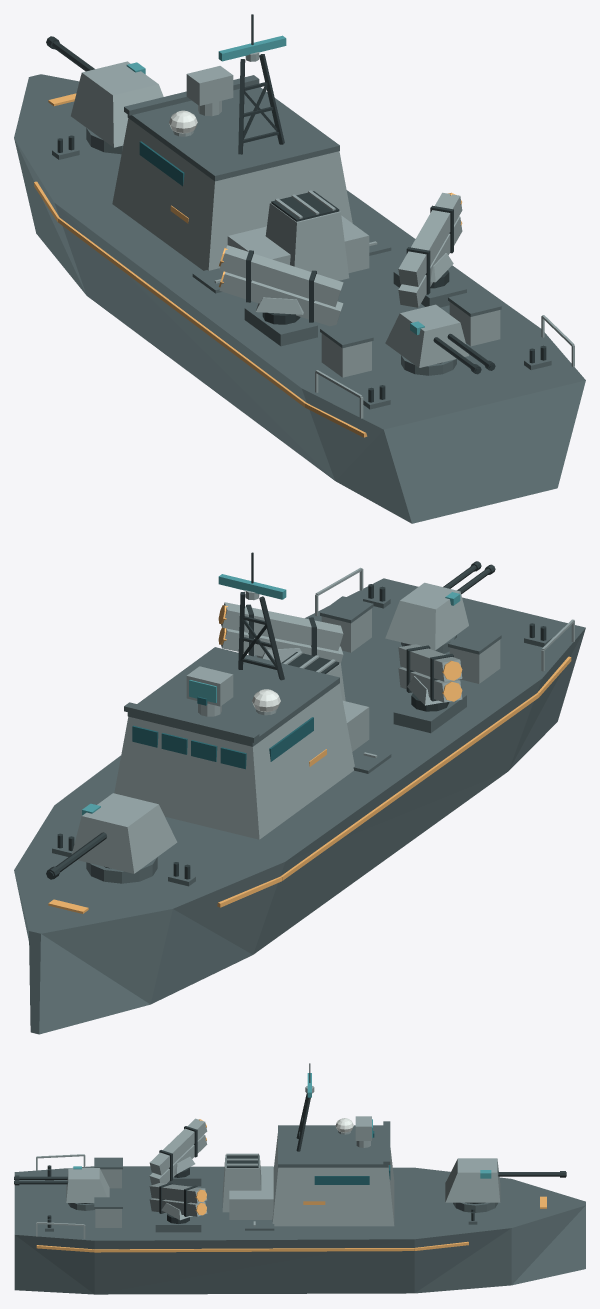
File: ESC_STK_T2.fbx
3 views of the same model, one above another, from view 1: azimuth 30°, elevation 25°; view 2: azimuth 150°, elevation 25°; view 3: azimuth 270°, elevation 25° (orthographic). The views are drawn at different scales.
Visible parts, largest first — view 1: ContinuousHull.014, Deckhouse.014, Roof.014, PrimaryGunCupola.014, FunnelEnclosure.014, AftGunCupola.001, MissileBankPortTube2, MissileBankStarboardTube2, AftEngineHouse, MissileBankPortTube1, RoleHullStripe-1_1, FireControlHousing (+12 smaller); view 2: ContinuousHull.014, Deckhouse.014, Roof.014, PrimaryGunCupola.014, AftGunCupola.001, MissileBankStarboardTube2, RoleHullStripe-1_1, BridgeBrow, MissileBankPortFoundation, AftAmmoLocker-1, MissileBankStarboardTube1, MissileBankPortTube2 (+10 smaller); view 3: ContinuousHull.014, Deckhouse.014, Roof.014, PrimaryGunCupola.014, AftEngineHouse, AftGunCupola.001, RoleHullStripe1_1, MissileBankPortTube2, FunnelEnclosure.014, MissileBankStarboardTube2, MissileBankStarboardFoundation, MissileBankPortTube1 (+13 smaller).
Part boxes in pixels (<box>): ContinuousHull.014: <box>14,74,585,523</box>; Deckhouse.014: <box>112,118,352,270</box>; Roof.014: <box>127,87,339,181</box>; PrimaryGunCupola.014: <box>71,61,163,147</box>; FunnelEnclosure.014: <box>265,202,349,280</box>; AftGunCupola.001: <box>385,304,468,367</box>; MissileBankPortTube2: <box>219,245,343,307</box>; MissileBankStarboardTube2: <box>398,192,462,286</box>; AftEngineHouse: <box>227,215,369,272</box>; MissileBankPortTube1: <box>219,272,343,326</box>; RoleHullStripe-1_1: <box>57,217,306,407</box>; FireControlHousing: <box>186,66,233,105</box>; ContinuousHull.014: <box>14,578,585,1034</box>; Deckhouse.014: <box>114,683,354,839</box>; Roof.014: <box>127,647,339,746</box>; PrimaryGunCupola.014: <box>71,793,177,873</box>; AftGunCupola.001: <box>385,582,468,650</box>; MissileBankStarboardTube2: <box>221,602,343,650</box>; RoleHullStripe-1_1: <box>280,693,538,880</box>; BridgeBrow: <box>124,702,259,742</box>; MissileBankPortFoundation: <box>393,694,466,733</box>; AftAmmoLocker-1: <box>449,639,500,683</box>; MissileBankStarboardTube1: <box>221,628,343,663</box>; MissileBankPortTube2: <box>398,644,462,681</box>; ContinuousHull.014: <box>14,1166,585,1294</box>; Deckhouse.014: <box>272,1133,394,1226</box>; Roof.014: <box>278,1125,388,1167</box>; PrimaryGunCupola.014: <box>445,1158,500,1202</box>; AftEngineHouse: <box>229,1166,273,1219</box>; AftGunCupola.001: <box>66,1168,109,1202</box>; RoleHullStripe1_1: <box>94,1248,414,1252</box>; MissileBankPortTube2: <box>149,1118,207,1175</box>; FunnelEnclosure.014: <box>222,1154,261,1212</box>; MissileBankStarboardTube2: <box>149,1183,206,1203</box>; MissileBankStarboardFoundation: <box>155,1213,201,1232</box>; MissileBankPortTube1: <box>149,1134,207,1184</box>.
Bounding box in the file's own units: 281 × 355 × 901.
